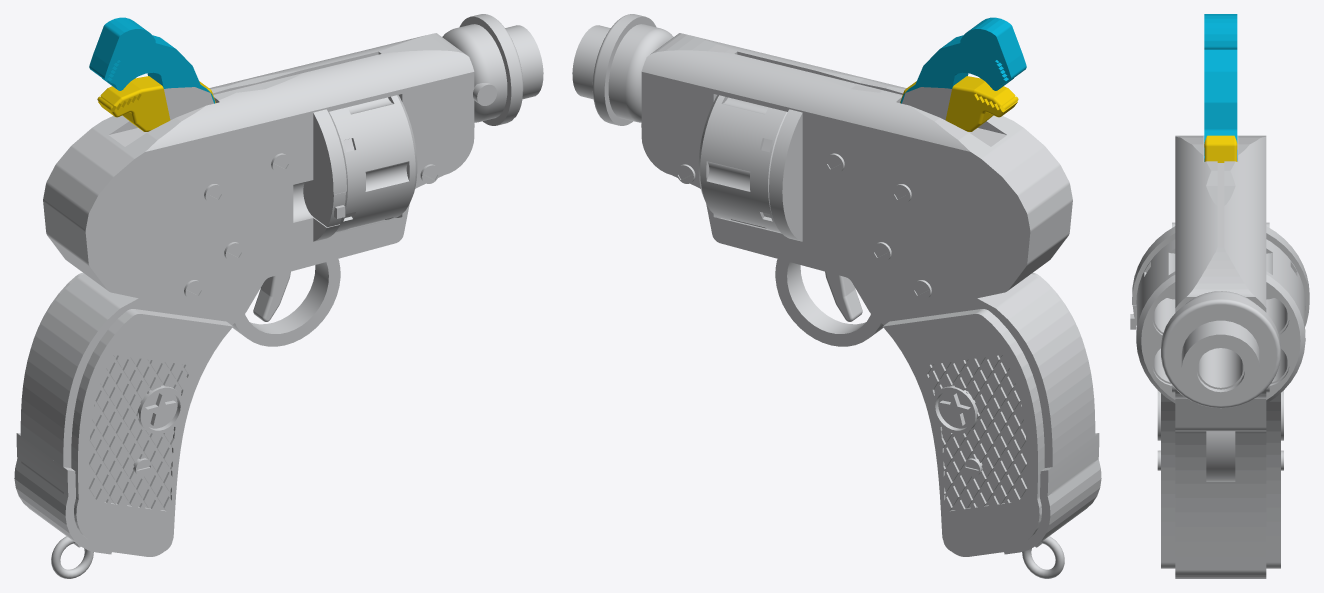
File: diff_volume.glb
3 renders of one model, left to right at view 1: azimuth 30°, elevation 25°; view 2: azimuth 150°, elevation 25°; view 3: azimuth 270°, elevation 25°, orthographic. The views are drawn at different scales.
Visible parts, largest first — view 1: =>[0:1:1:2], =>[0:1:1:20], =>[0:1:1:9], =>[0:1:1:28], =>[0:1:1:15], =>[0:1:1:24], =>[0:1:1:31], =>[0:1:1:3], =>[0:1:1:26], =>[0:1:1:13], =>[0:1:1:22], =>[0:1:1:23] (+1 smaller); view 2: =>[0:1:1:2], =>[0:1:1:18], =>[0:1:1:9], =>[0:1:1:15], =>[0:1:1:28], =>[0:1:1:24], =>[0:1:1:31], =>[0:1:1:3], =>[0:1:1:26], =>[0:1:1:22], =>[0:1:1:23], =>[0:1:1:25]; view 3: =>[0:1:1:2], =>[0:1:1:9], =>[0:1:1:15], =>[0:1:1:28], =>[0:1:1:26], =>[0:1:1:20], =>[0:1:1:18], =>[0:1:1:14], =>[0:1:1:32].
Part boxes in pixels (x1,y1,x2,y2): =>[0:1:1:2]: (20, 33, 474, 556); =>[0:1:1:20]: (71, 309, 232, 552); =>[0:1:1:9]: (328, 95, 417, 232); =>[0:1:1:28]: (89, 17, 215, 103); =>[0:1:1:15]: (442, 14, 523, 125); =>[0:1:1:24]: (14, 433, 113, 554); =>[0:1:1:31]: (98, 76, 170, 131); =>[0:1:1:3]: (18, 463, 74, 541); =>[0:1:1:26]: (505, 25, 543, 99); =>[0:1:1:13]: (303, 180, 345, 227); =>[0:1:1:22]: (164, 87, 213, 120); =>[0:1:1:23]: (253, 271, 290, 321); =>[0:1:1:2]: (641, 33, 1095, 556); =>[0:1:1:18]: (883, 309, 1044, 552); =>[0:1:1:9]: (698, 95, 787, 232); =>[0:1:1:15]: (592, 14, 673, 125); =>[0:1:1:28]: (900, 17, 1026, 103); =>[0:1:1:24]: (1002, 433, 1101, 554); =>[0:1:1:31]: (945, 76, 1017, 131); =>[0:1:1:3]: (1041, 463, 1097, 541); =>[0:1:1:26]: (572, 25, 610, 99); =>[0:1:1:22]: (902, 87, 951, 120); =>[0:1:1:23]: (825, 271, 862, 321); =>[0:1:1:25]: (1022, 536, 1064, 578); =>[0:1:1:2]: (1132, 135, 1309, 578); =>[0:1:1:9]: (1136, 239, 1305, 403); =>[0:1:1:15]: (1161, 291, 1280, 408); =>[0:1:1:28]: (1204, 14, 1237, 161); =>[0:1:1:26]: (1181, 320, 1259, 405); =>[0:1:1:20]: (1157, 390, 1175, 568); =>[0:1:1:18]: (1266, 390, 1283, 568); =>[0:1:1:14]: (1196, 348, 1244, 389); =>[0:1:1:32]: (1204, 135, 1237, 162).
Size of the model in its own units: 145 by 154 by 43.38.
